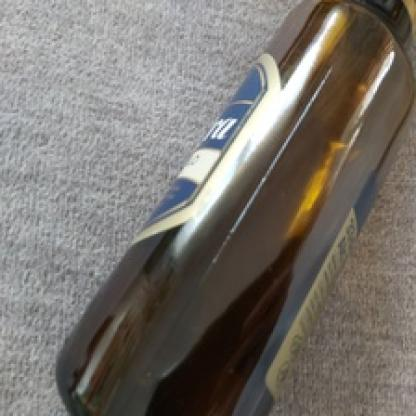Can: (40, 0, 416, 411)
